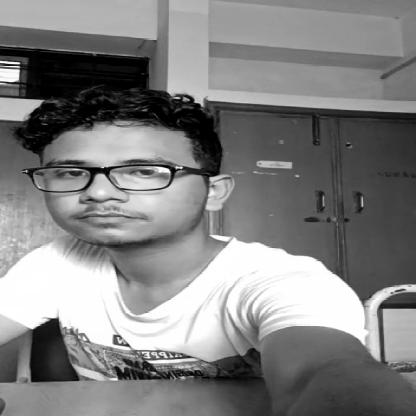Normal: (20, 103, 233, 245)
